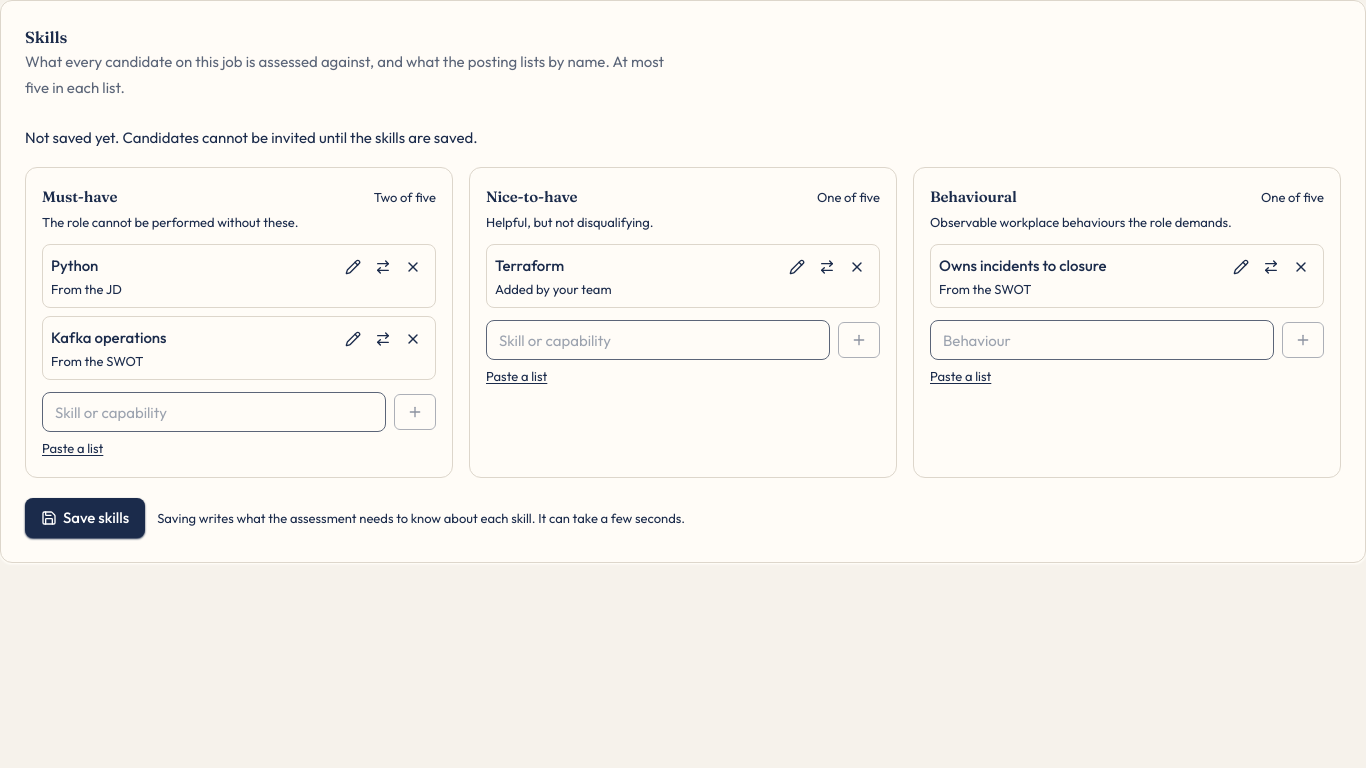
a user who may edit every bucket › shows a clash refusal in the server's words and re-reads the skills
This screenshot has width=1366, height=768.
Expected: the text "Python" is shown, [51,256,98,275]
Click the button named "Rename Python" at (353, 267), box [339,253,367,281]
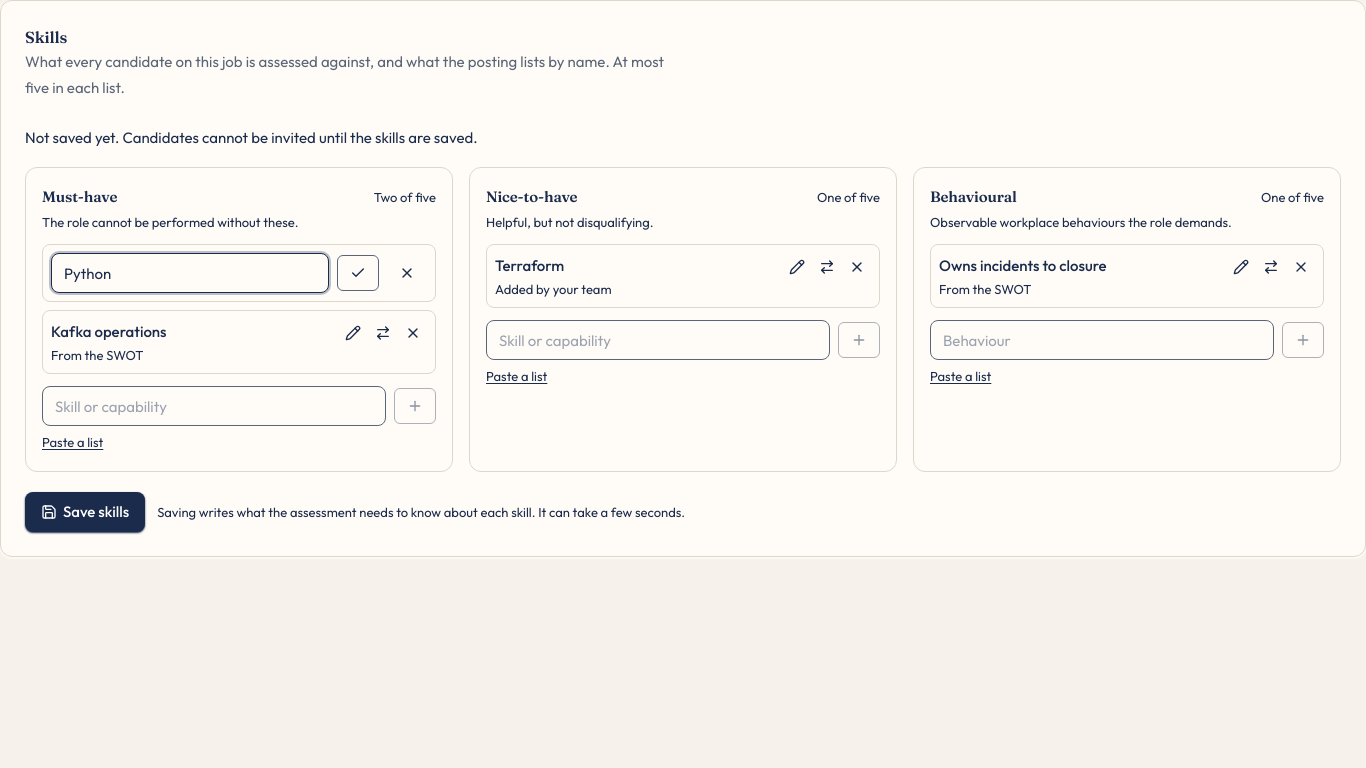
Replace the text in the field named "Rename Python" with "Kafka operations" at (190, 273), box [51,253,329,293]
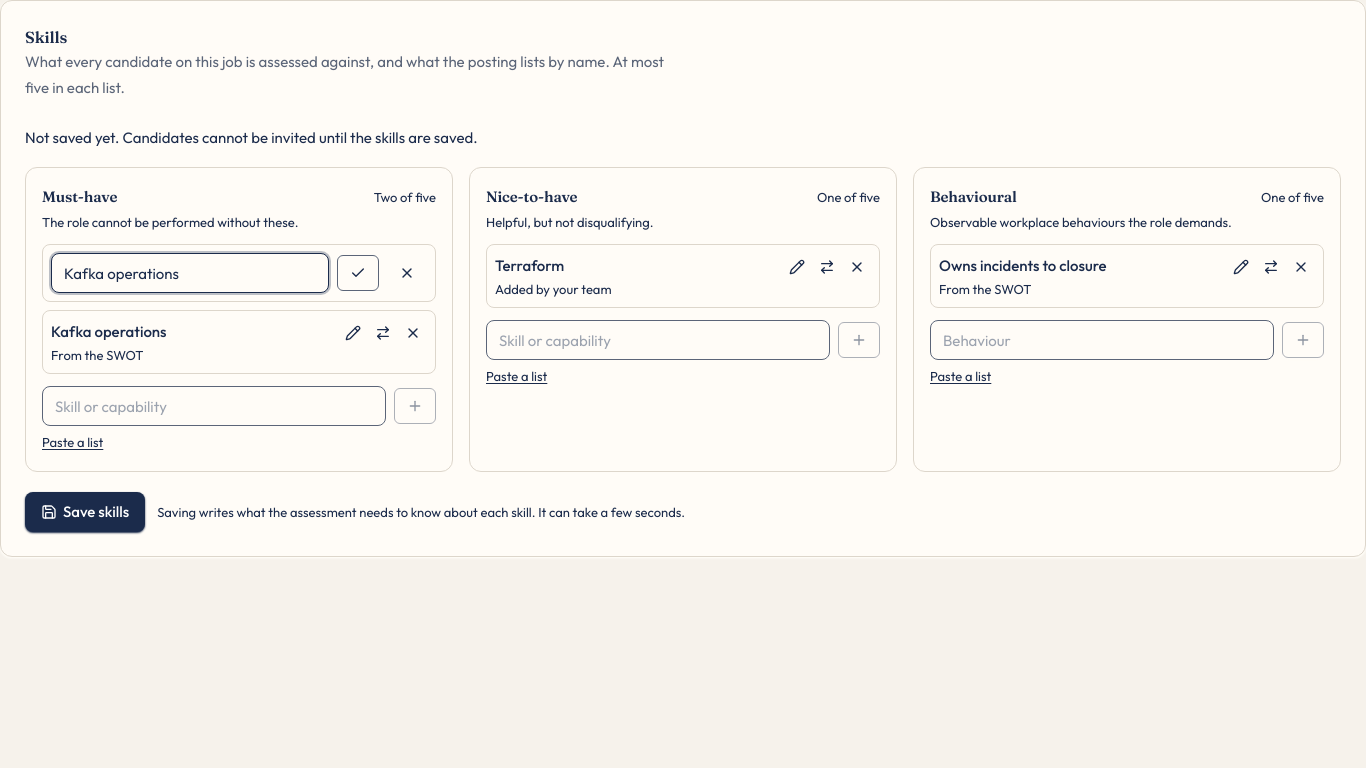
Click the button named "Save the new name" at (358, 273), box [337,255,379,291]
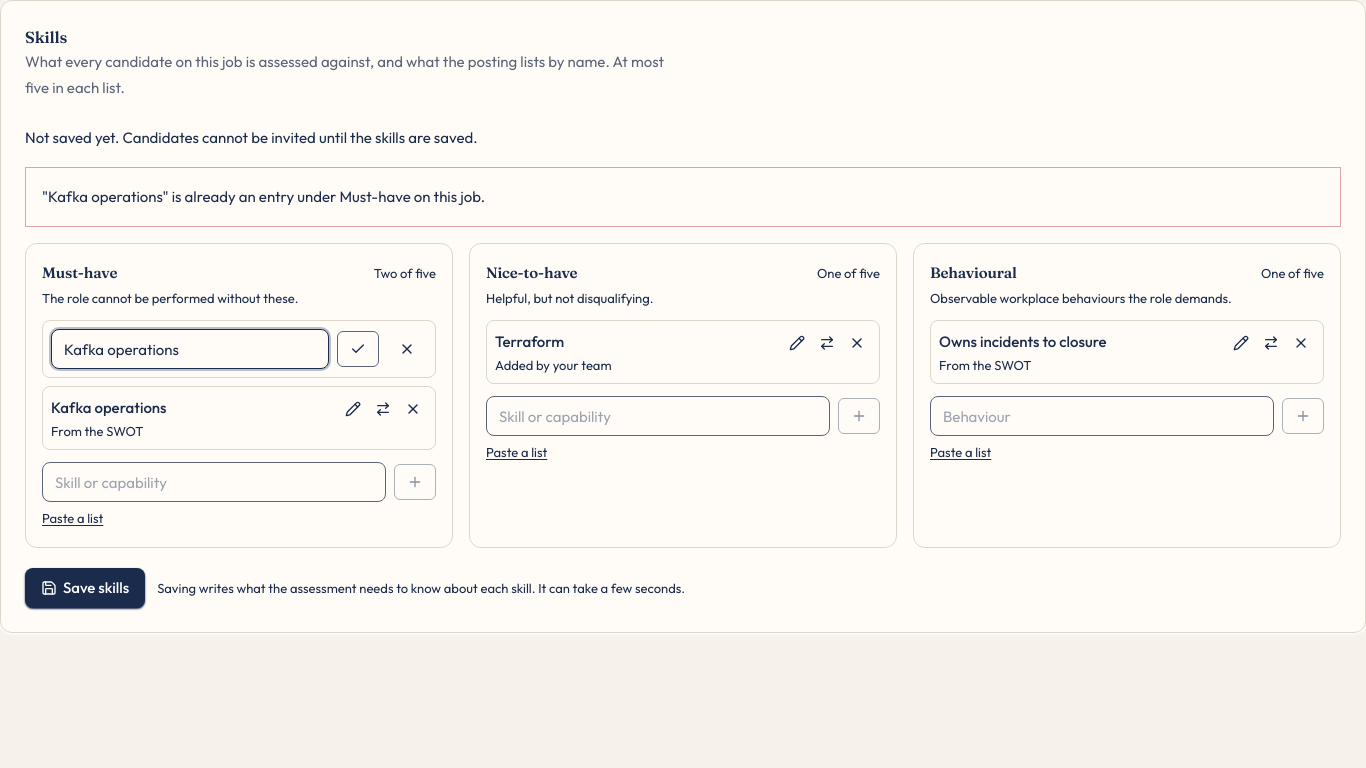
Expected: the text "\"Kafka operations\" is already an entry under Must-have on this job." is shown, [42,187,485,206]
